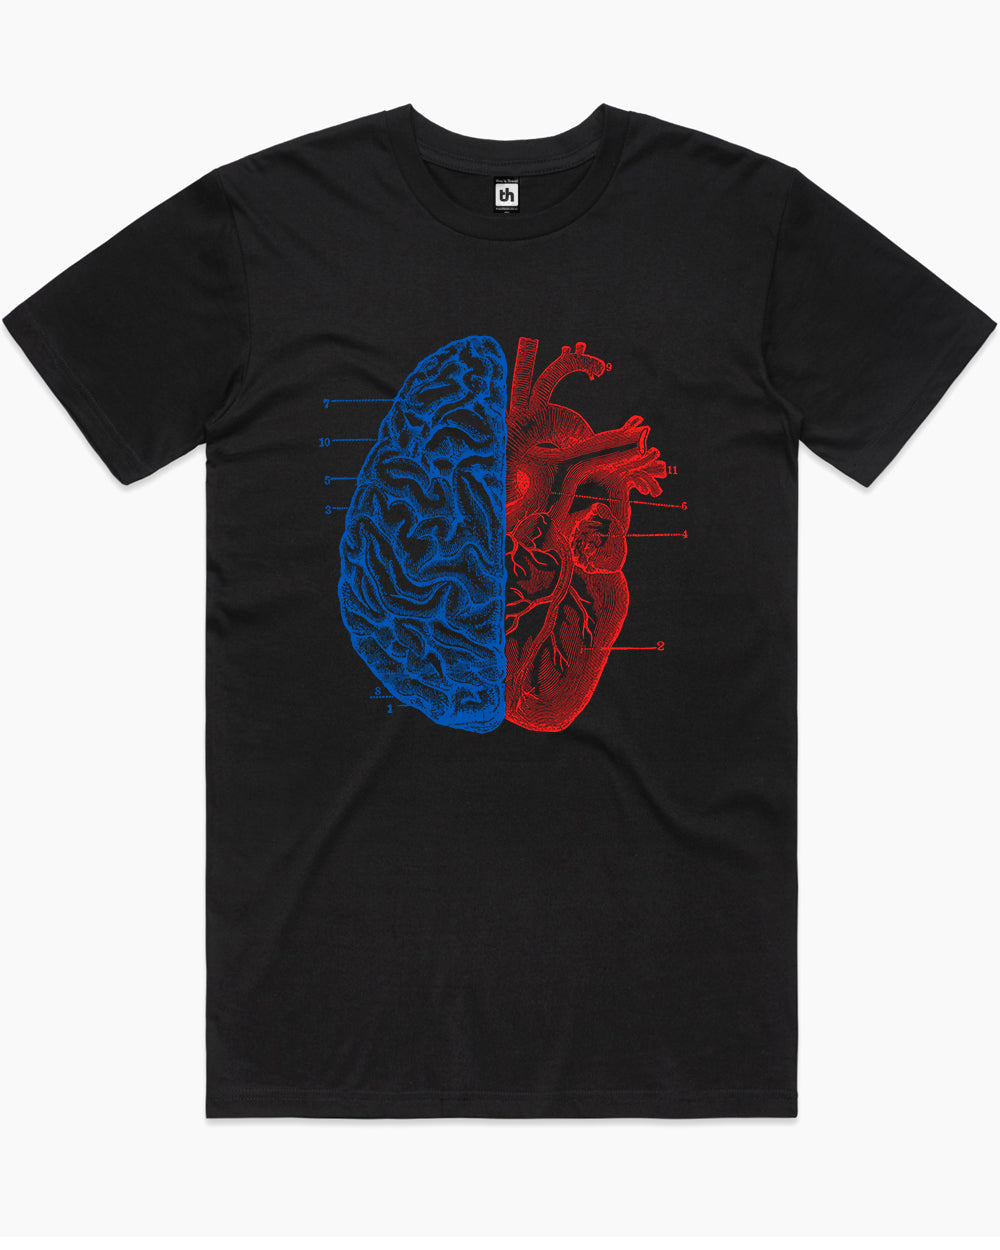design: (314, 327, 695, 743)
